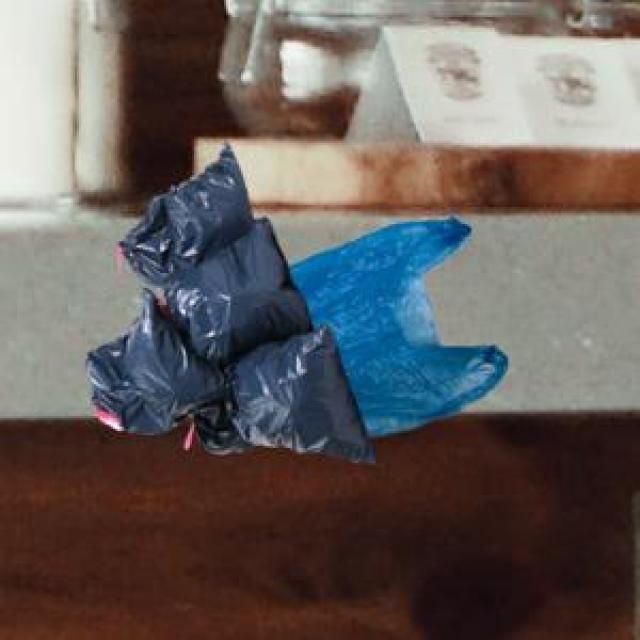miscellaneous trash: (81, 139, 372, 459)
